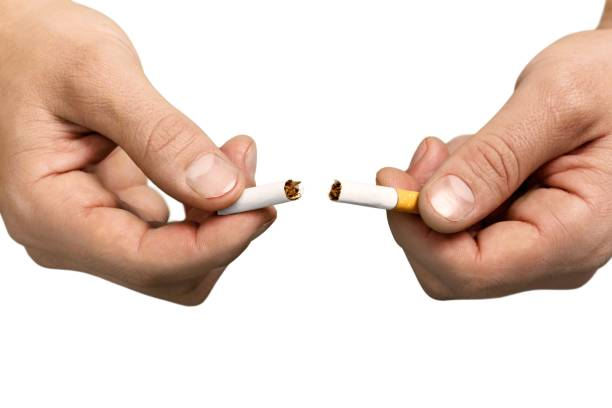cigarette: (325, 177, 421, 214), (215, 179, 305, 217)
